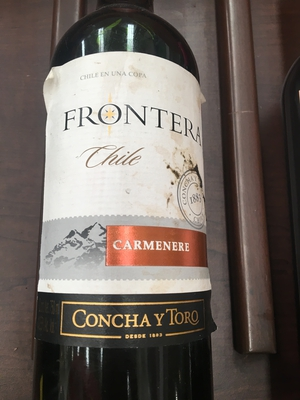frontera carmenere: (45, 11, 208, 399)
